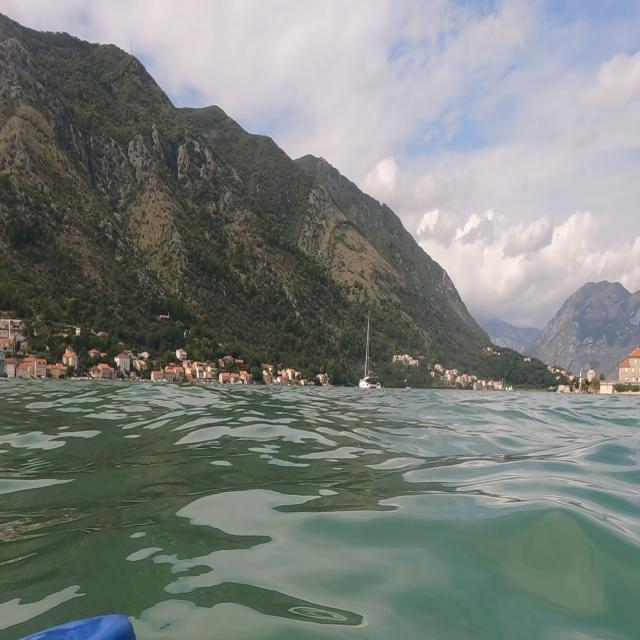boat: (357, 304, 382, 392)
